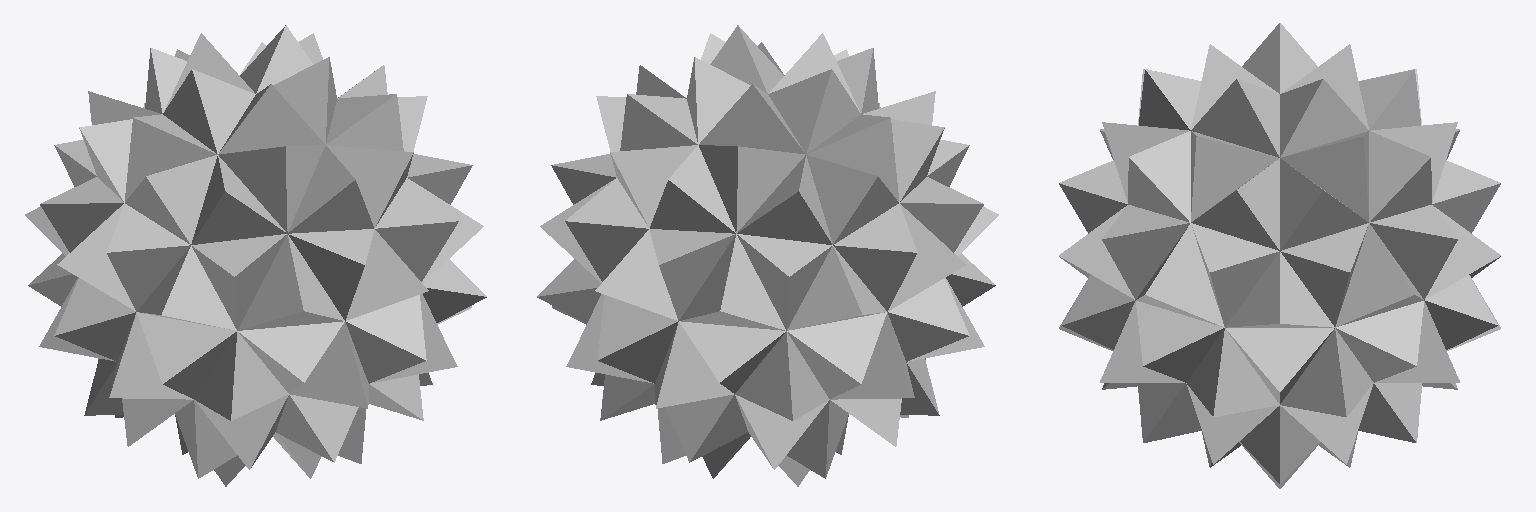
Rendered from spiky.obj.
3 renders of one model, left to right at view 1: azimuth 30°, elevation 25°; view 2: azimuth 150°, elevation 25°; view 3: azimuth 270°, elevation 25°, orthographic.
Visible parts, largest first — view 1: Icosphere; view 2: Icosphere; view 3: Icosphere.
Part boxes in pixels (x1,y1,x2,y2): Icosphere: (25,25,486,486); Icosphere: (537,25,998,486); Icosphere: (1059,23,1500,488).
Bounding box in the file's own units: 2.61 × 2.51 × 2.48.